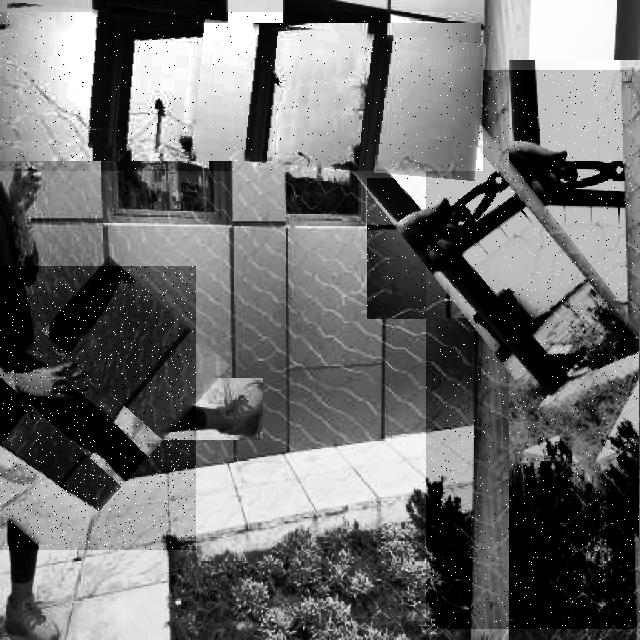anomaly-fence: (426, 70, 640, 629), (0, 12, 483, 171), (0, 266, 196, 550), (367, 178, 465, 319)
